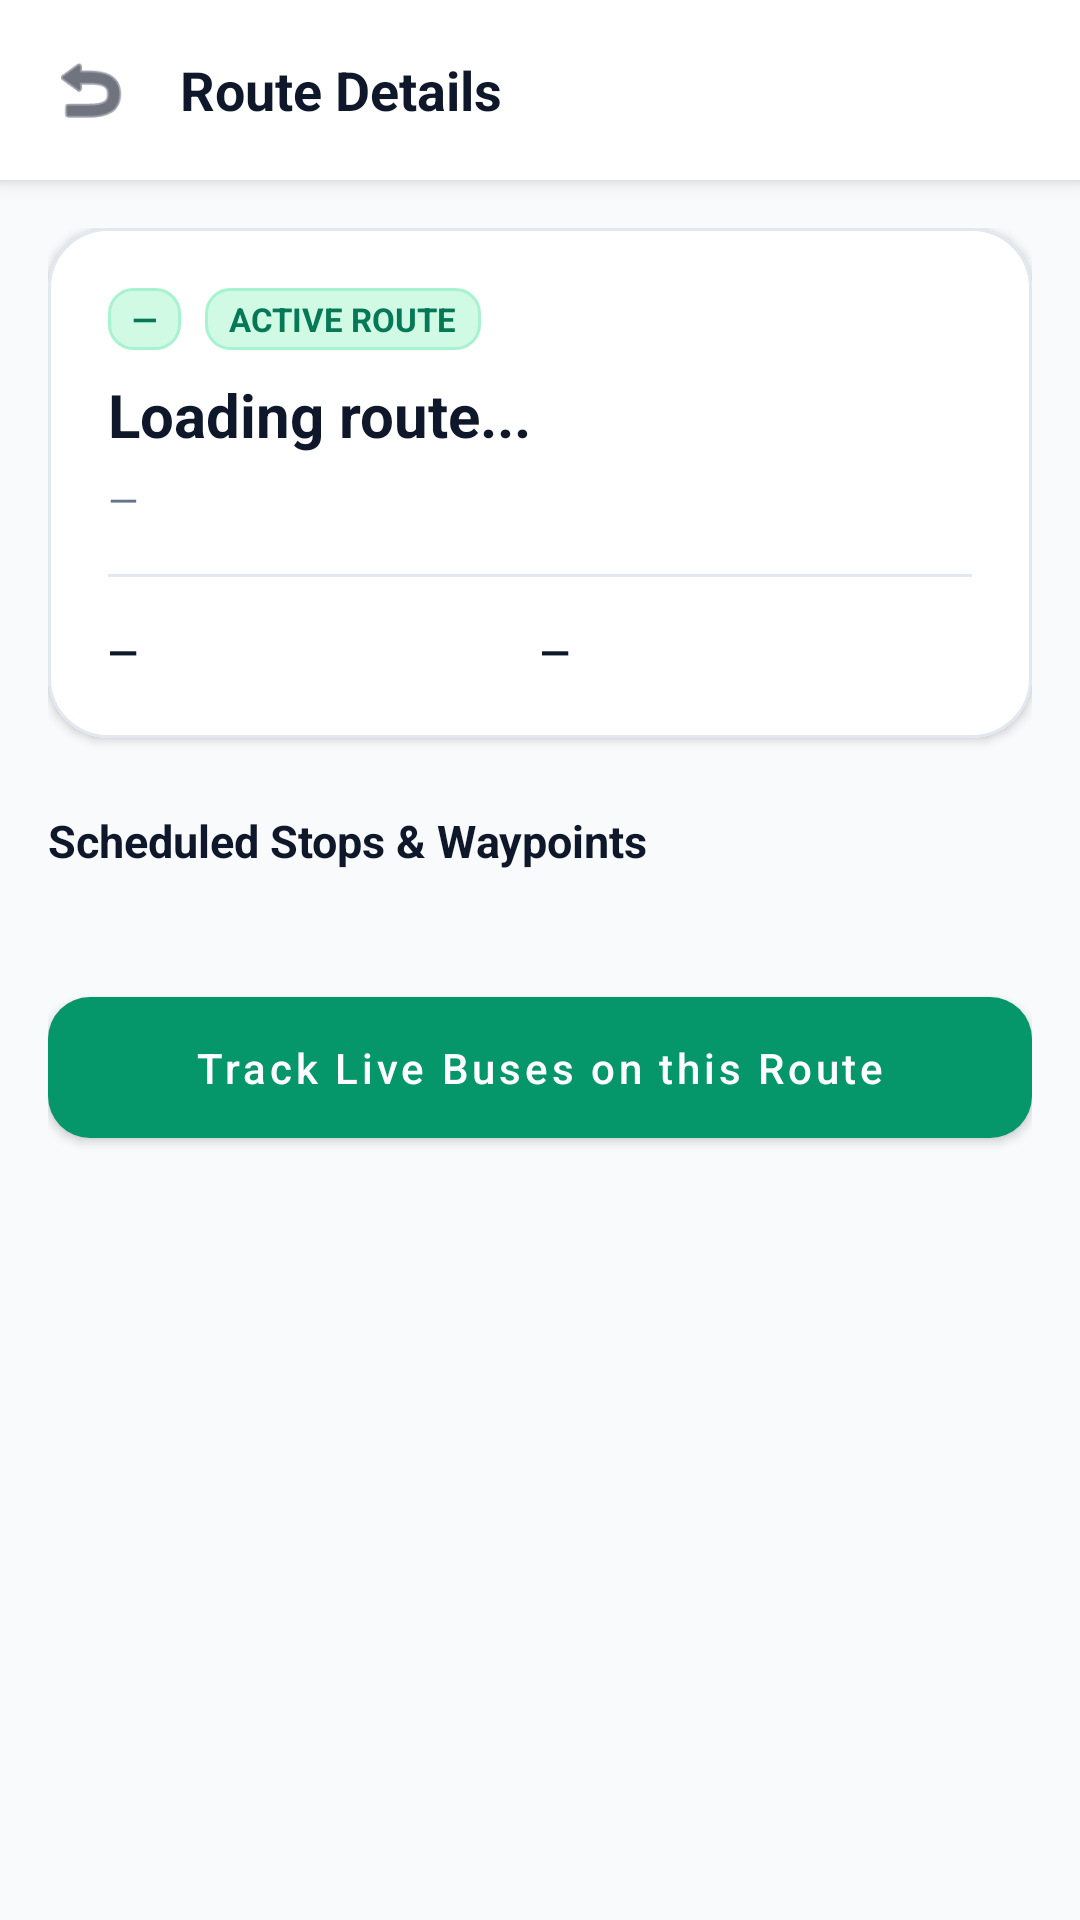

Screen size 1080*1920. Icon name, then its box in pixels as (x1=x1, y1=y1, x2=x2, y2=y2):
revert: (x1=61, y1=63, x2=121, y2=118)
